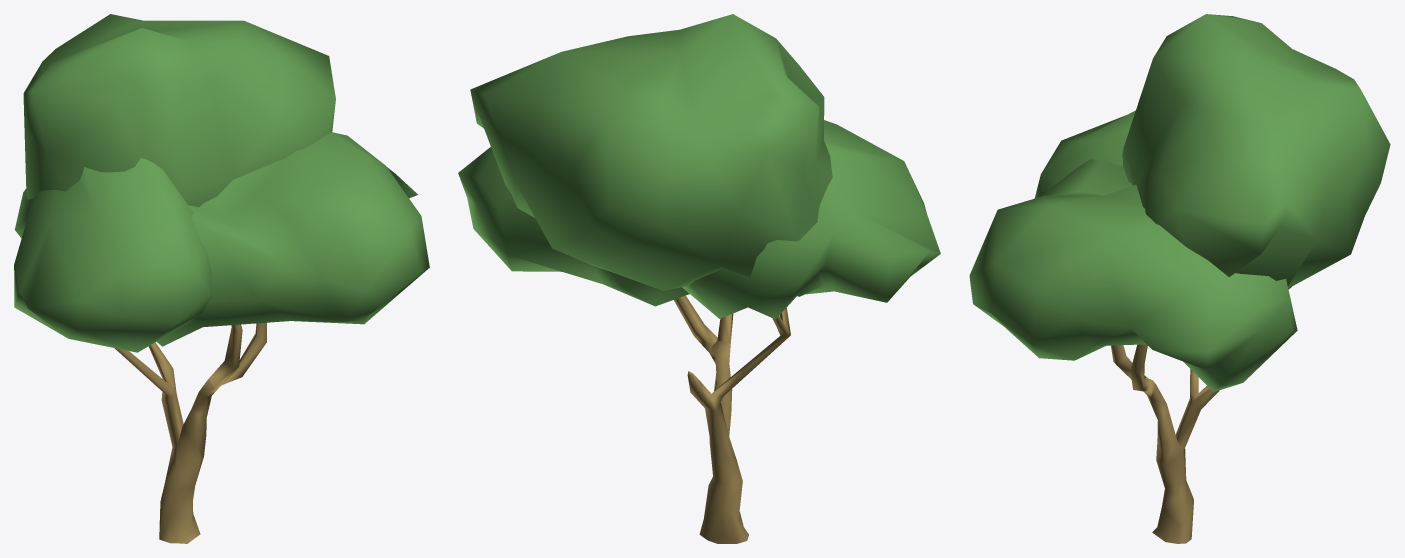
Rendered from tree3.glb.
3 views of the same model, side by side, from view 1: azimuth 30°, elevation 25°; view 2: azimuth 150°, elevation 25°; view 3: azimuth 270°, elevation 25° (orthographic). The views are drawn at different scales.
Visible parts, largest first — view 1: Cube.406; view 2: Cube.406; view 3: Cube.406.
Boxes of the visible parts, box(x1,y1,x2,y2) form: Cube.406: box(14, 14, 429, 543); Cube.406: box(458, 14, 940, 543); Cube.406: box(969, 14, 1390, 543).
Size of the model in its own units: 4.8 by 5.65 by 4.22.
Materials: 1 (1 with a texture image).
